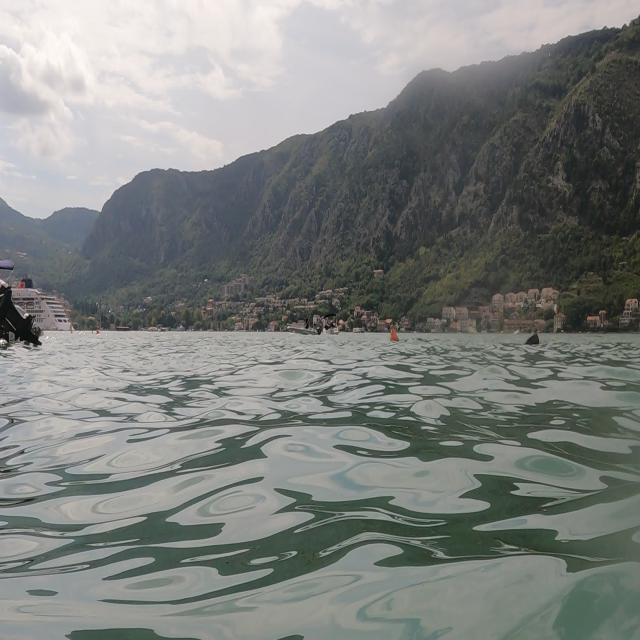boat: (0, 252, 84, 354)
buoy: (518, 327, 547, 361), (384, 319, 408, 353)
